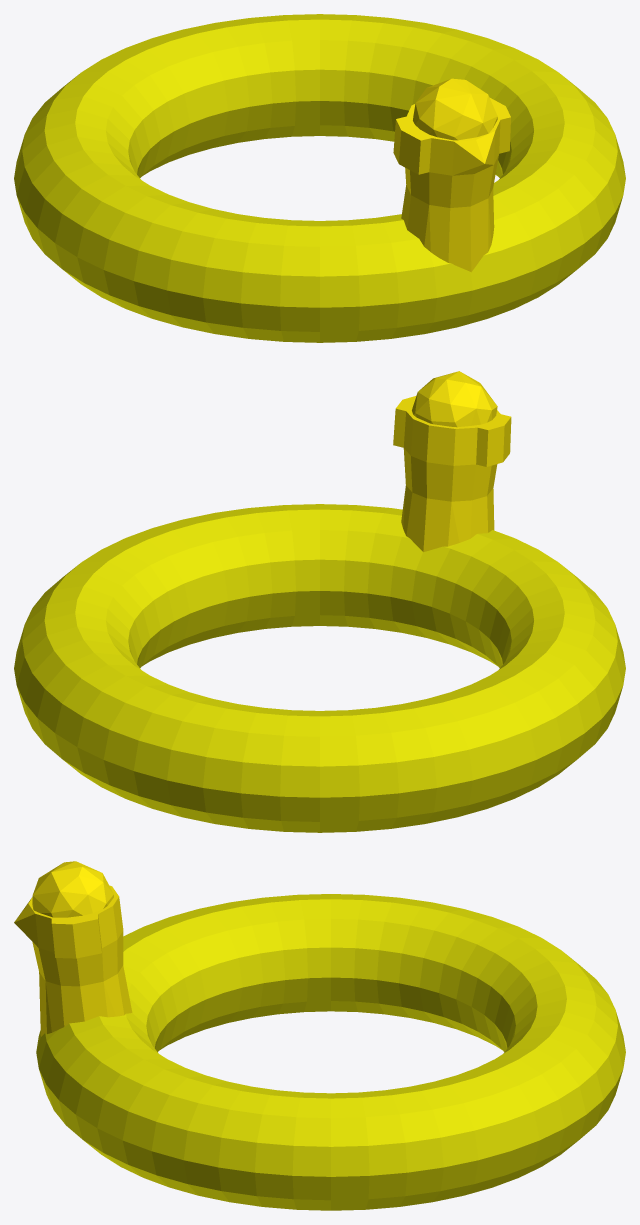
The model's file is duck.glb.
3 views of the same model, one above another, from view 1: azimuth 30°, elevation 25°; view 2: azimuth 150°, elevation 25°; view 3: azimuth 270°, elevation 25° (orthographic). The views are drawn at different scales.
Parts seen in each view (by area): view 1: Torus, Cylinder_002, Sphere; view 2: Torus, Cylinder_002, Sphere; view 3: Torus, Cylinder_002, Sphere.
Boxes of the visible parts, x1,y1,x2,y2 form: Torus: (14, 14, 625, 342); Cylinder_002: (393, 98, 510, 272); Sphere: (413, 78, 497, 140); Torus: (14, 504, 625, 832); Cylinder_002: (393, 396, 511, 552); Sphere: (412, 371, 497, 427); Torus: (36, 894, 625, 1210); Cylinder_002: (14, 885, 132, 1036); Sphere: (32, 861, 113, 917).
Bounding box in the file's own units: 2.5 × 1.12 × 2.59.
